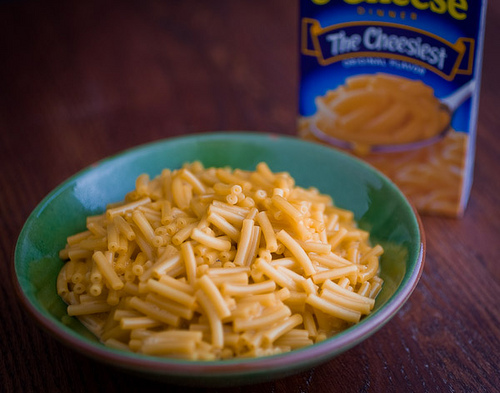macncheese: (54, 161, 384, 359)
